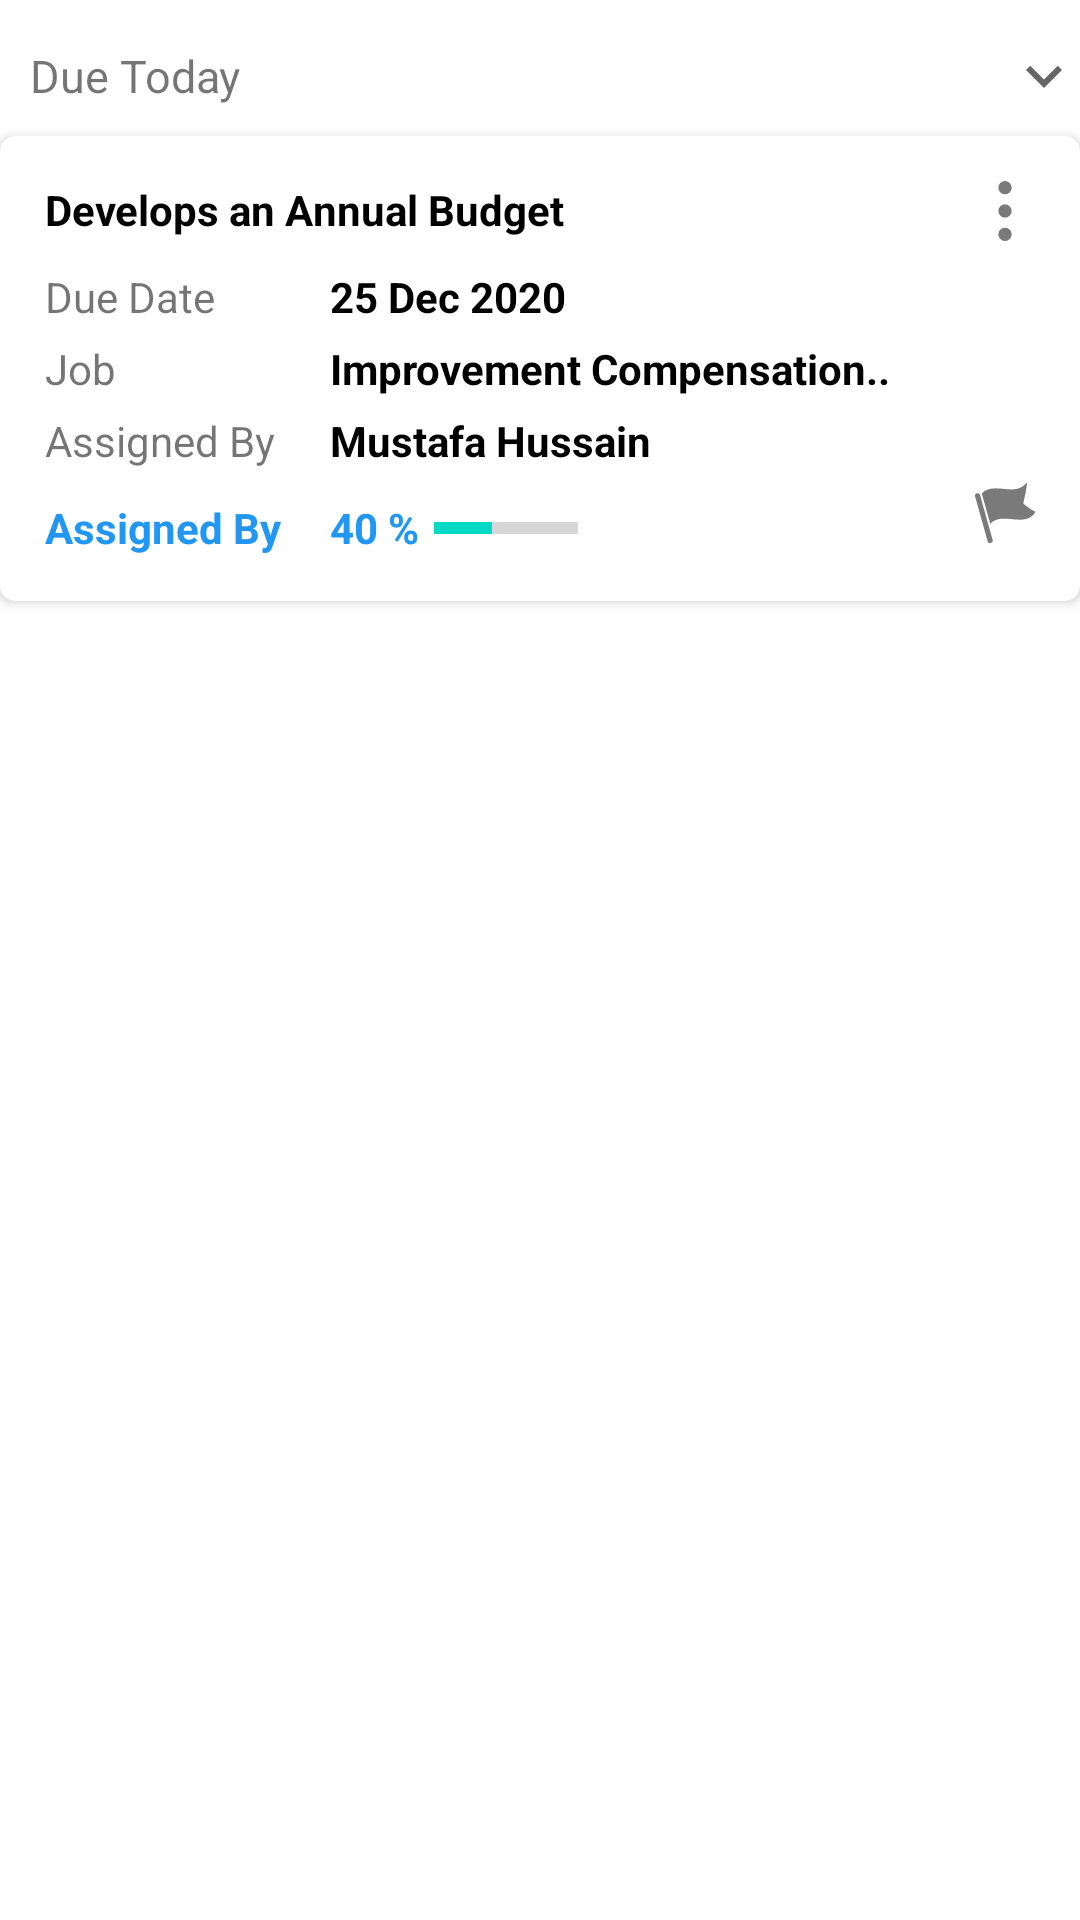

Screen size 1080px×1920px. Icon name, then its box in pixels as (left=x1, top=y1, right=x2, bottom=y2):
finish: (left=975, top=483, right=1035, bottom=543)
more: (left=998, top=181, right=1012, bottom=241)
